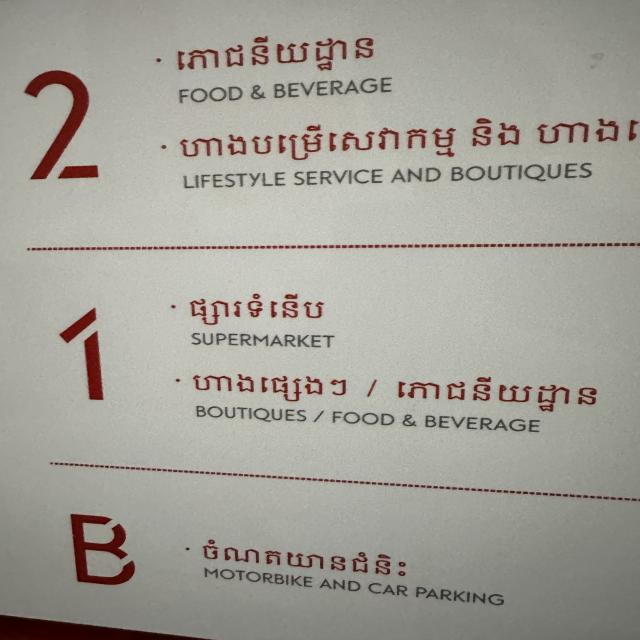2: (174, 107, 625, 168), (187, 364, 599, 416)
Yolov11kh: (165, 29, 382, 82), (199, 537, 411, 580), (178, 292, 325, 328)
